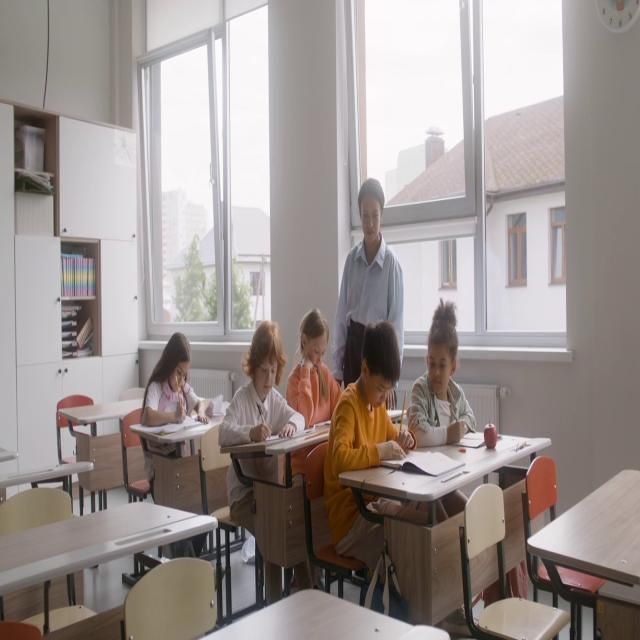reading: (284, 311, 336, 435)
turning: (408, 299, 477, 448)
writing: (327, 320, 429, 620), (218, 321, 303, 486), (141, 332, 211, 469)
